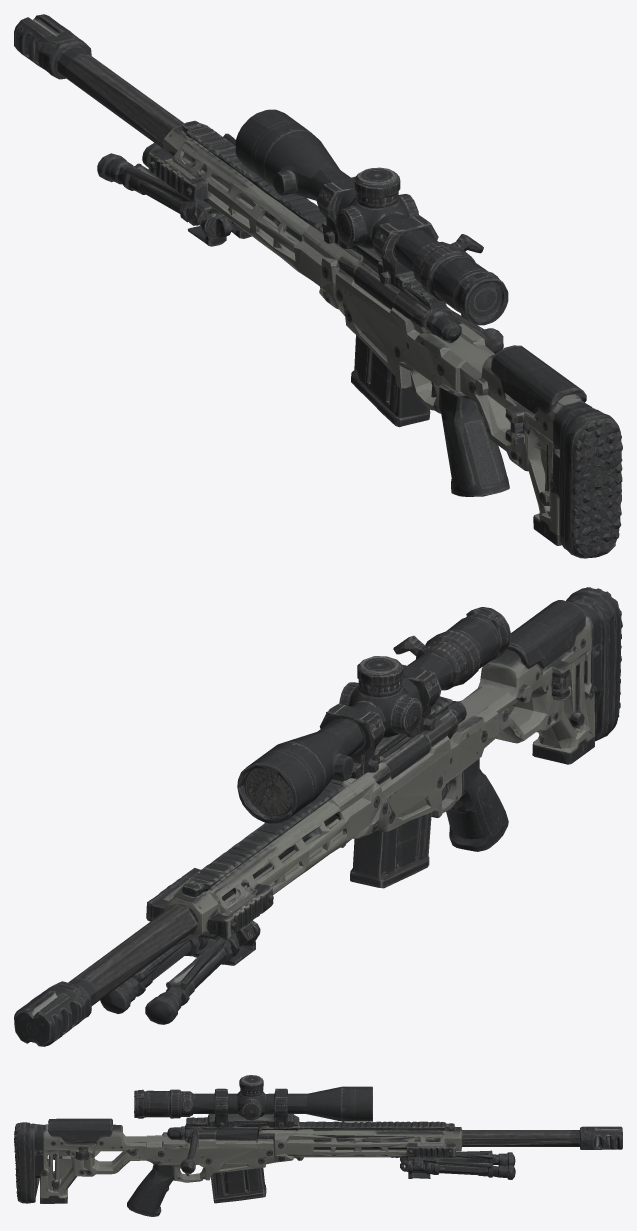
The model's file is rifle-sniper.glb.
3 renders of one model, top to bottom at view 1: azimuth 30°, elevation 25°; view 2: azimuth 150°, elevation 25°; view 3: azimuth 270°, elevation 25°, orthographic. The views are drawn at different scales.
Parts seen in each view (by area): view 1: output_unwrapped; view 2: output_unwrapped; view 3: output_unwrapped.
Part boxes in pixels (left/top/right/bottom): output_unwrapped: left=14, top=14, right=622, bottom=558; output_unwrapped: left=14, top=587, right=622, bottom=1046; output_unwrapped: left=14, top=1075, right=622, bottom=1216.
Bounding box in the file's own units: 0.1598 × 0.355 × 1.47.
1 material, 1 textured.
